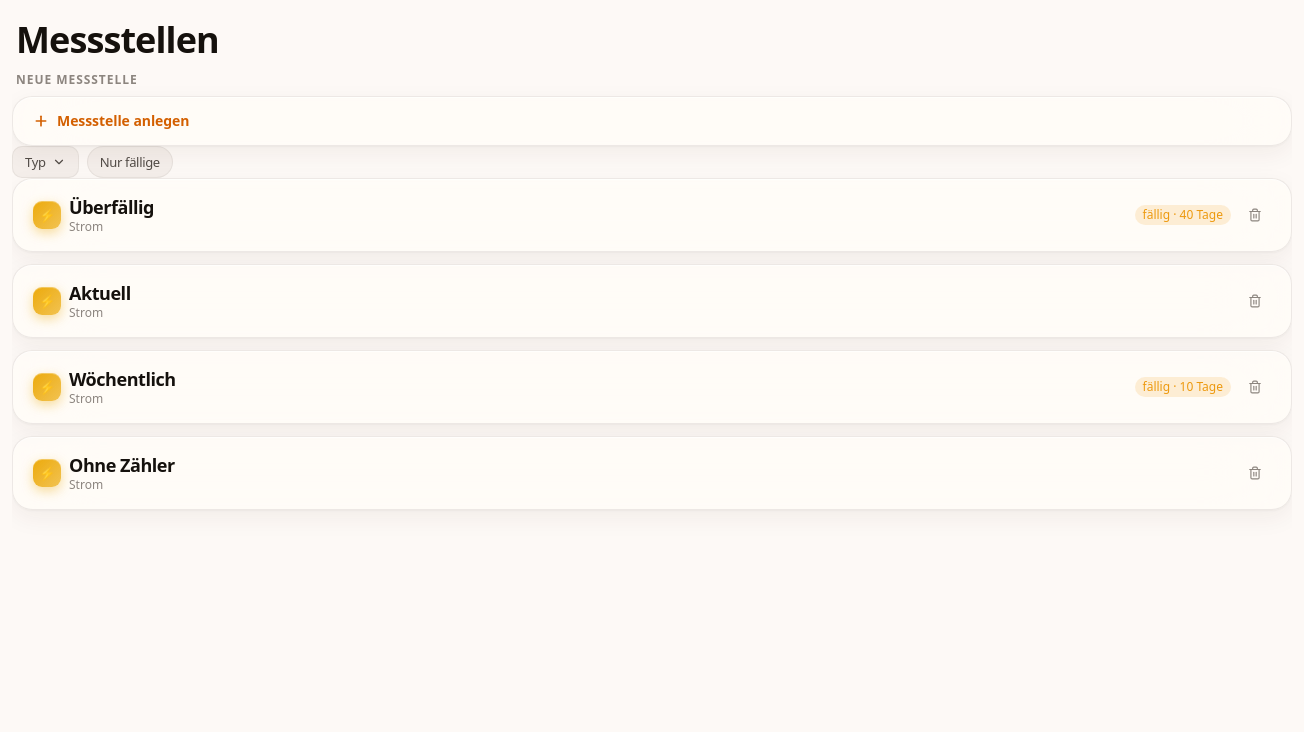
Test: MeasuringPointsAdminPage Ableseintervall › markiert fällige Messstellen und filtert auf „Nur fällige"
The width and height of the screenshot is (1304, 732).
Expected: the text "fällig · 40 Tage" is shown, left=1135, top=205, right=1231, bottom=225
Expected: the text "fällig · 10 Tage" is shown, left=1135, top=377, right=1231, bottom=397
What coordinates should you click on to do the following:
click the button "Nur fällige"
I would click on:
 (130, 162)
Its box is left=87, top=146, right=173, bottom=178.
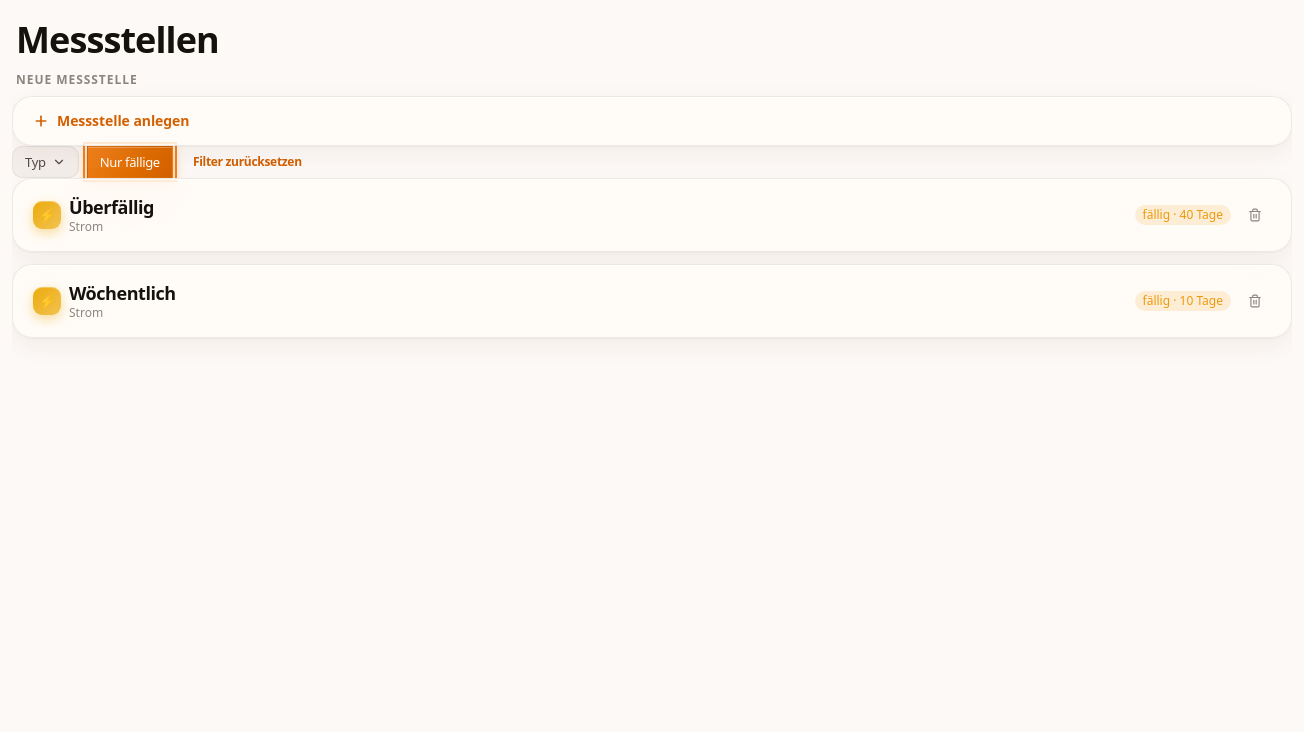
Expected: the text "Überfällig" is shown, left=69, top=195, right=154, bottom=219
Expected: the link "Aktuell" is gone
Expected: the link "Ohne Zähler" is gone
